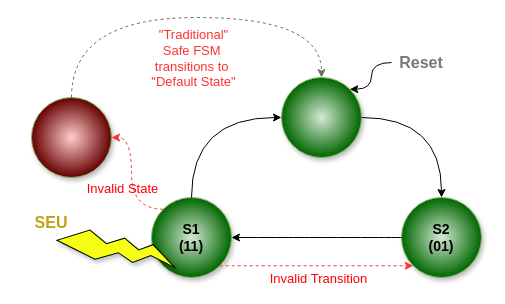
Image size: 505x304. Some labels were removed from this diagram. The shapes that lost their labels are listed below. From the top down, each one's centre as x and y in pixels, then its label:
At [72,138]: "S? (10)".
At [322,118]: "S0 (00)".
